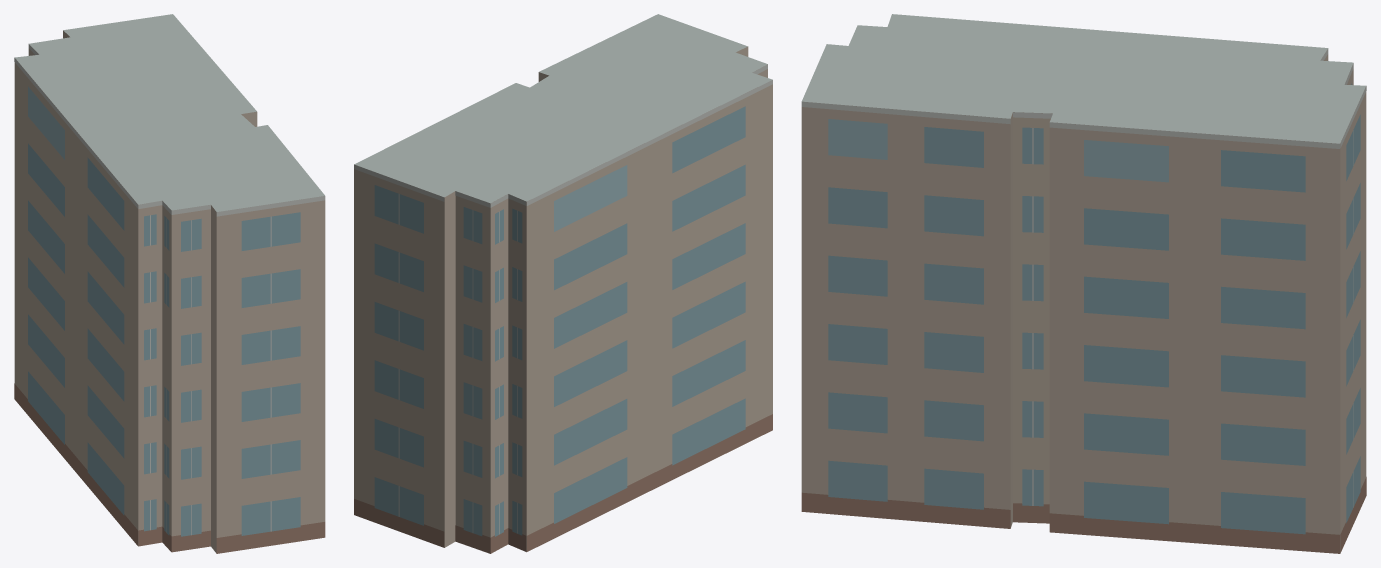
The model's file is survey-upis-32704193.glb.
3 renders of one model, left to right at view 1: azimuth 30°, elevation 25°; view 2: azimuth 150°, elevation 25°; view 3: azimuth 270°, elevation 25°, orthographic. The views are drawn at different scales.
Visible parts, largest first — view 1: survey-upis-32704193.tmp; view 2: survey-upis-32704193.tmp; view 3: survey-upis-32704193.tmp.
Boxes of the visible parts, bbox=[...] form: survey-upis-32704193.tmp: bbox=[14, 14, 325, 553]; survey-upis-32704193.tmp: bbox=[354, 14, 772, 553]; survey-upis-32704193.tmp: bbox=[801, 14, 1366, 553].
Size of the model in its own units: 12.66 by 18.65 by 23.28.
